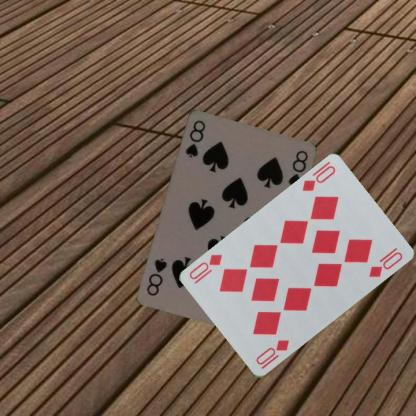10d: (252, 337, 290, 371), (299, 163, 337, 193)
8s: (182, 117, 207, 159)
